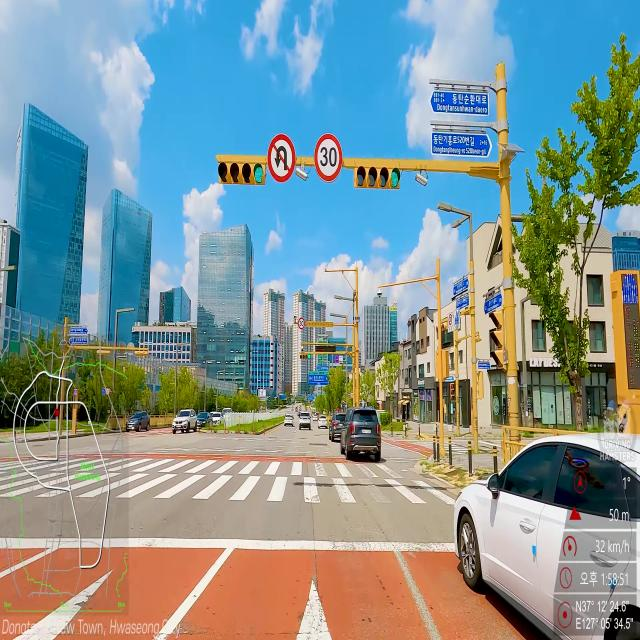Green Light: (252, 163, 264, 184), (389, 168, 400, 189), (308, 354, 310, 359)
